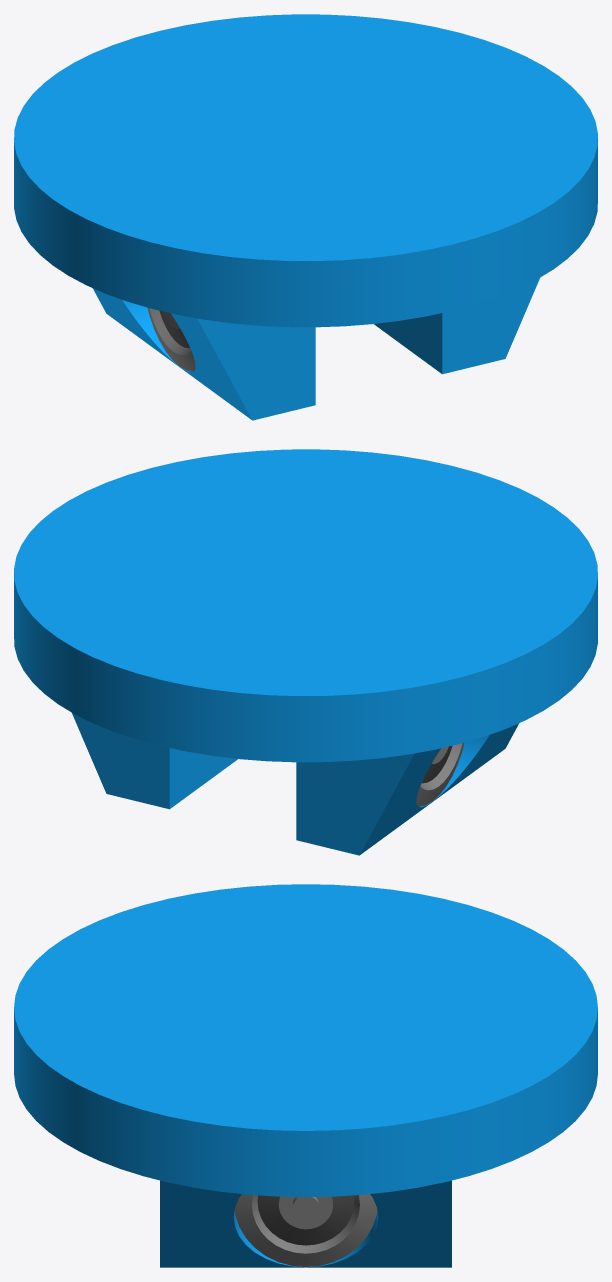
The model's file is convert2.gltf.
The picture shows the model from 3 angles, top to bottom: view 1: azimuth 30°, elevation 25°; view 2: azimuth 150°, elevation 25°; view 3: azimuth 270°, elevation 25°; orthographic projection.
Visible parts, largest first — view 1: convert2; view 2: convert2; view 3: convert2.
Part boxes in pixels (box(x1,y1,x2,y2)): convert2: box(14, 14, 597, 420); convert2: box(14, 449, 597, 855); convert2: box(14, 884, 597, 1267).
Bounding box in the file's own units: 8 × 3 × 8.
